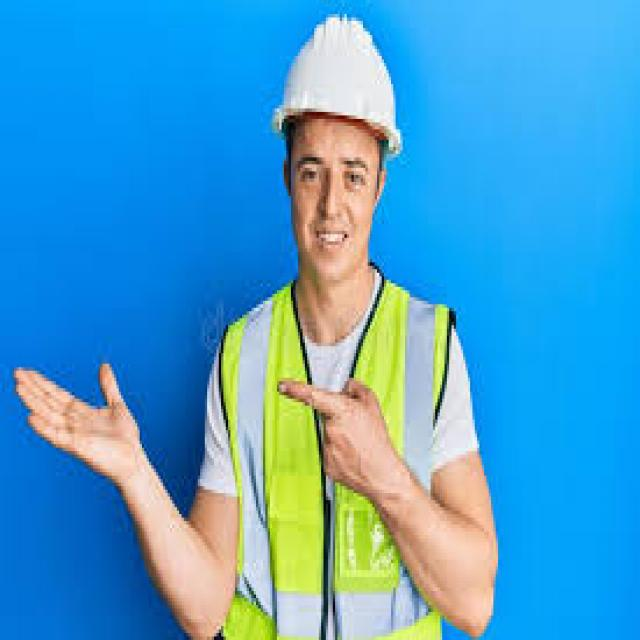Reflective-Jacket: (212, 283, 458, 633)
Safety-Helmet: (272, 14, 400, 150)
